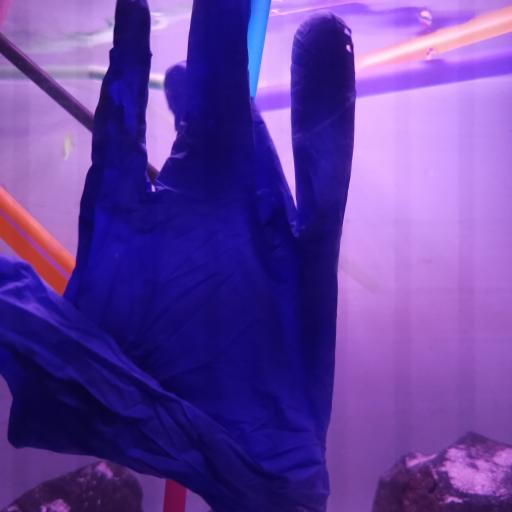glove: (2, 0, 356, 512)
plastic_straw: (2, 36, 161, 186), (250, 50, 512, 114), (356, 5, 512, 73), (0, 186, 76, 298), (247, 0, 272, 99), (162, 476, 188, 512)
